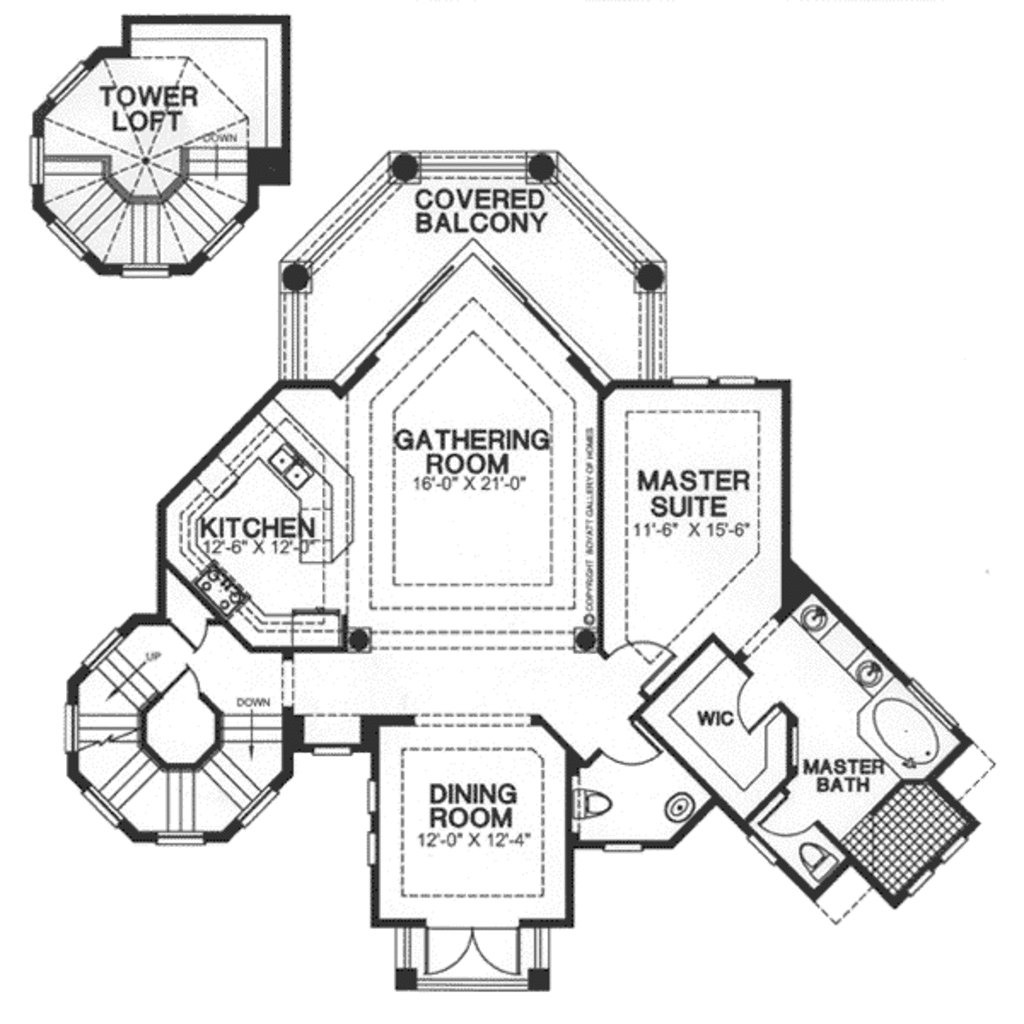door: (420, 924, 523, 981), (601, 636, 672, 688), (608, 722, 671, 776), (737, 676, 775, 741), (762, 792, 817, 835), (171, 619, 215, 655)
large_sink: (564, 784, 620, 822), (795, 839, 840, 885)
small_sink: (655, 788, 699, 825)
stairs: (41, 144, 249, 273)
tub: (859, 693, 943, 770)
twin_sink: (266, 442, 312, 492), (850, 645, 891, 691), (797, 596, 831, 634)
windows: (660, 373, 765, 389)
